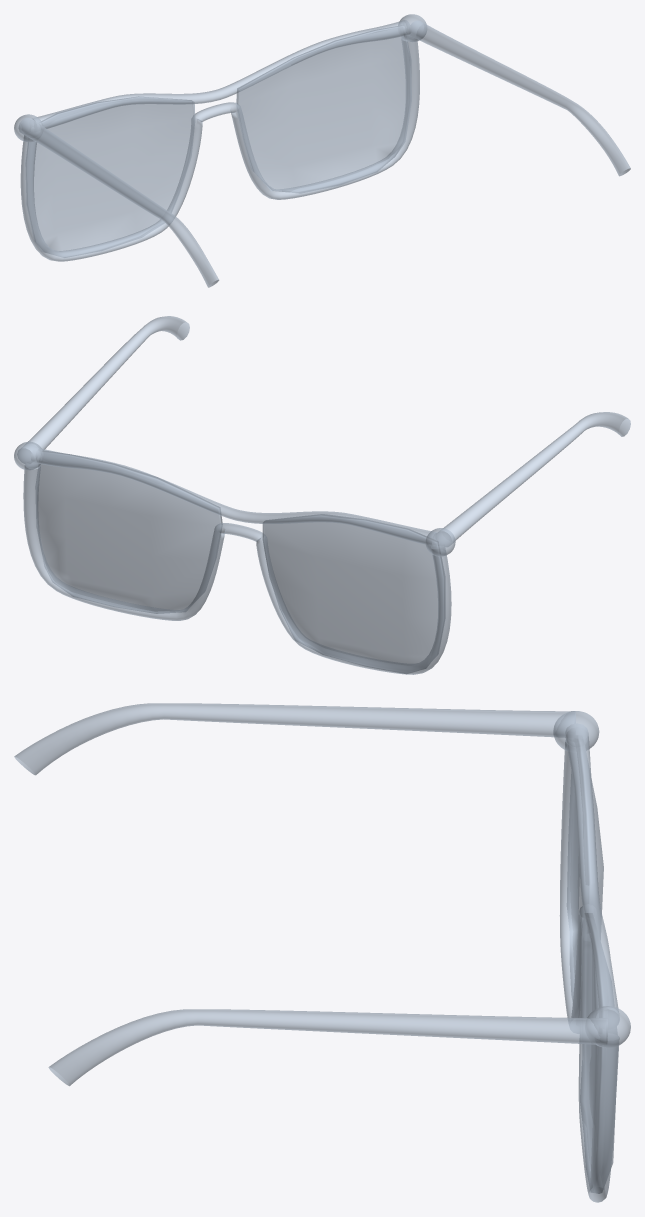
Rendered from my glasses.fbx.
The picture shows the model from 3 angles, top to bottom: view 1: azimuth 30°, elevation 25°; view 2: azimuth 150°, elevation 25°; view 3: azimuth 270°, elevation 25°; orthographic projection. The views are drawn at different scales.
Parts seen in each view (by area): view 1: Cube.038, Cube.035, BézierCircle.004; view 2: Cube.035, Cube.038, BézierCircle.004; view 3: BézierCircle.004, Cube.038, Cube.035.
Part boxes in pixels (x1,y1,x2,y2): Cube.038: (236, 25, 411, 193); Cube.035: (25, 96, 195, 257); BézierCircle.004: (14, 14, 630, 287); Cube.035: (262, 514, 445, 674); Cube.038: (35, 450, 222, 613); BézierCircle.004: (14, 316, 630, 674); BézierCircle.004: (14, 703, 630, 1202); Cube.038: (580, 913, 617, 1193); Cube.035: (567, 738, 603, 1017).
Size of the model in its own units: 157 by 54.28 by 126.
